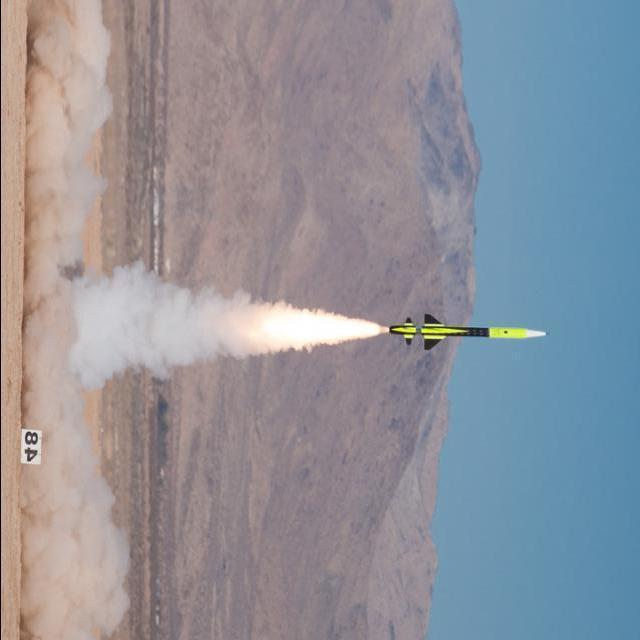missile: (385, 302, 551, 360)
